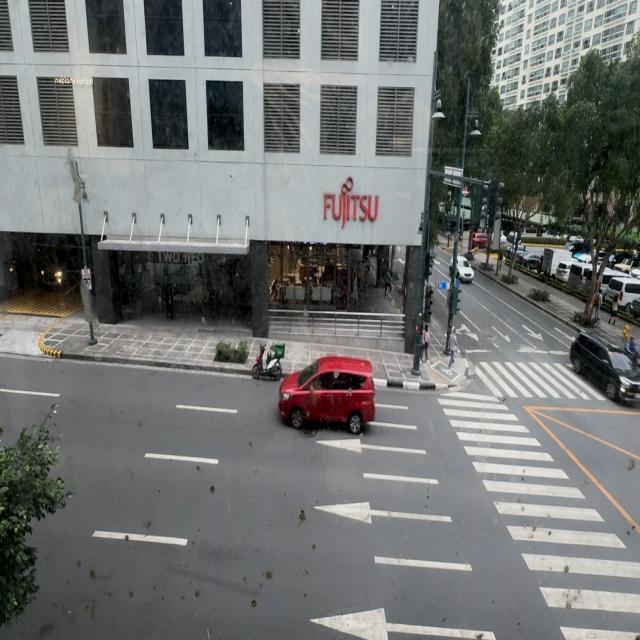waiting: (446, 326, 458, 367)
